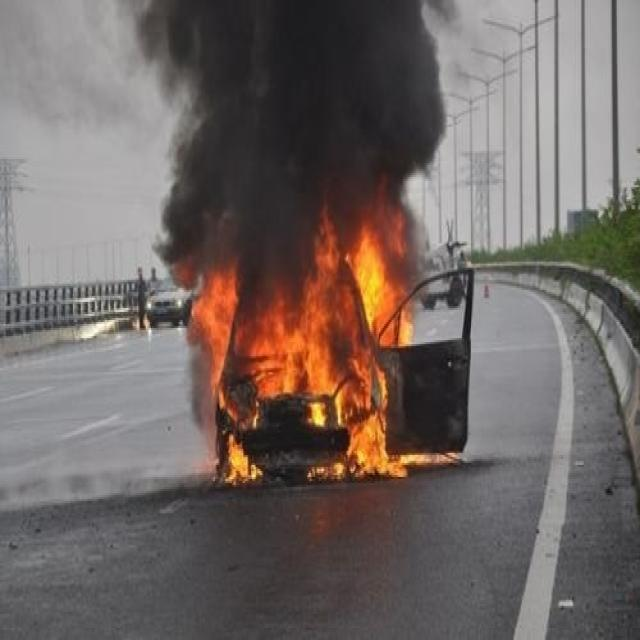Fire: (185, 195, 456, 485)
Smoke: (111, 2, 462, 431)
